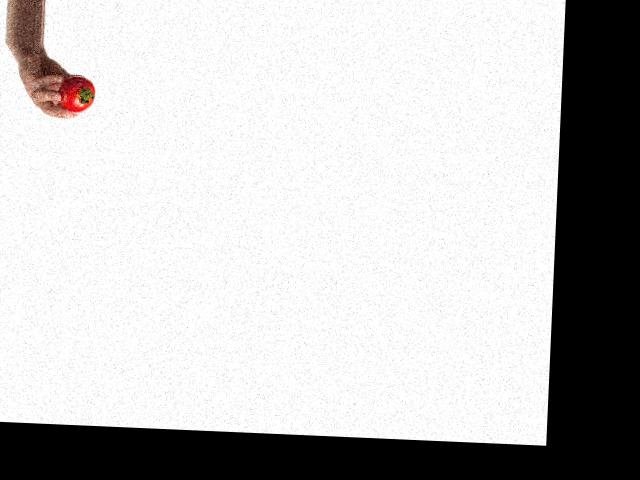tomato: (58, 74, 96, 112)
